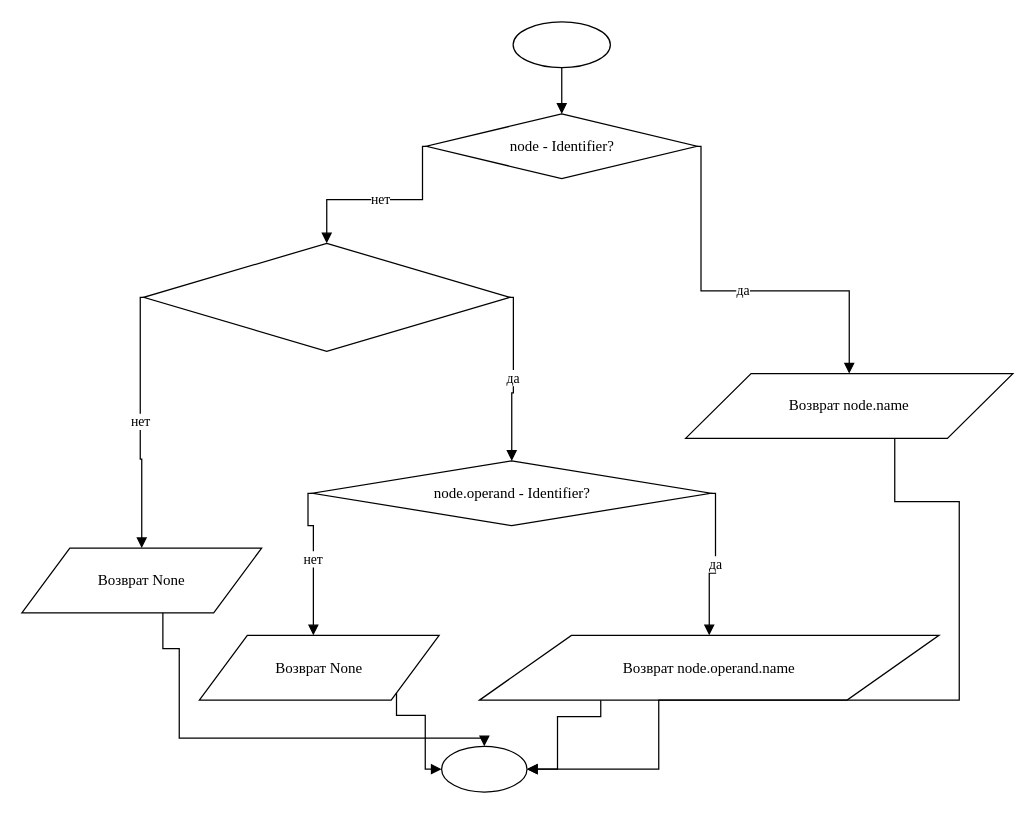
The diagram is 1035 pixels wide and 815 high, and some of its shapes have lost their labels. The centre of each missing label's shape, as x and y in pixels:
node - UnaryExpression и operator == '!'?: point 326,296
Конец: point 483,768
Начало: point 561,44
